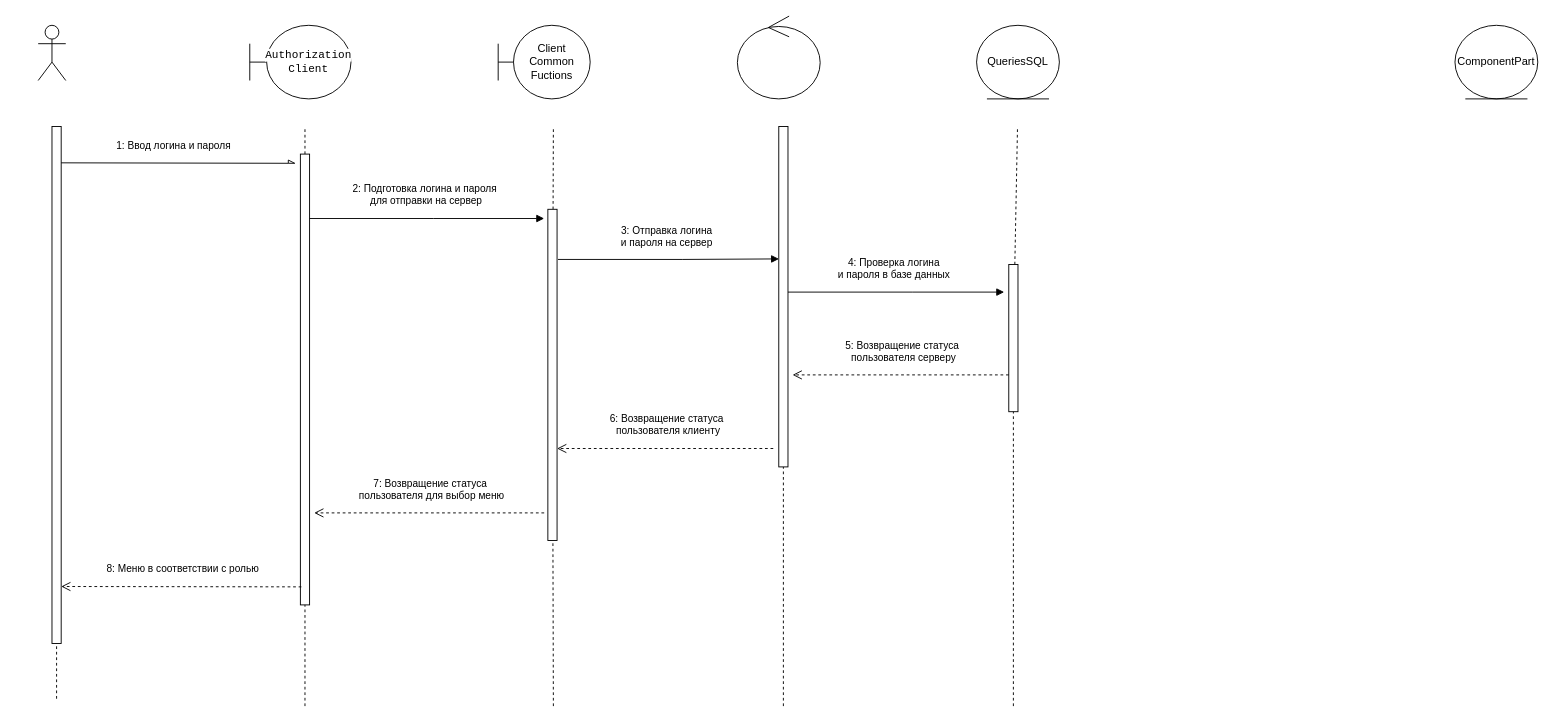
Some shapes in this 1554 by 723 pixel diagram are drawn without their labels. The shapes that lost their labels are listed below. From the top down, each one's box as (x1, y1, x2, y2) in pixels, then its label:
(37, 24, 66, 80): Пользователь
(736, 15, 820, 99): ClientHandler
